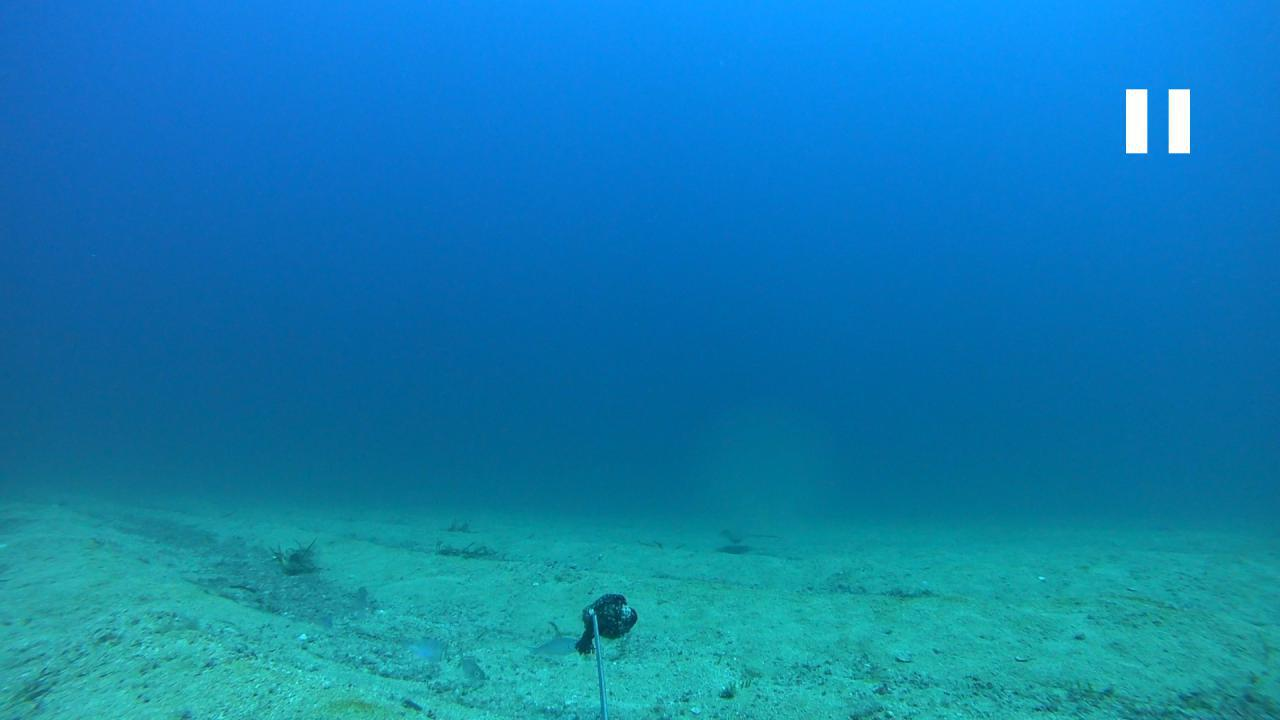dasyatis: (715, 526, 778, 546)
pagellus: (406, 636, 456, 664), (524, 638, 587, 660), (454, 649, 492, 679)
